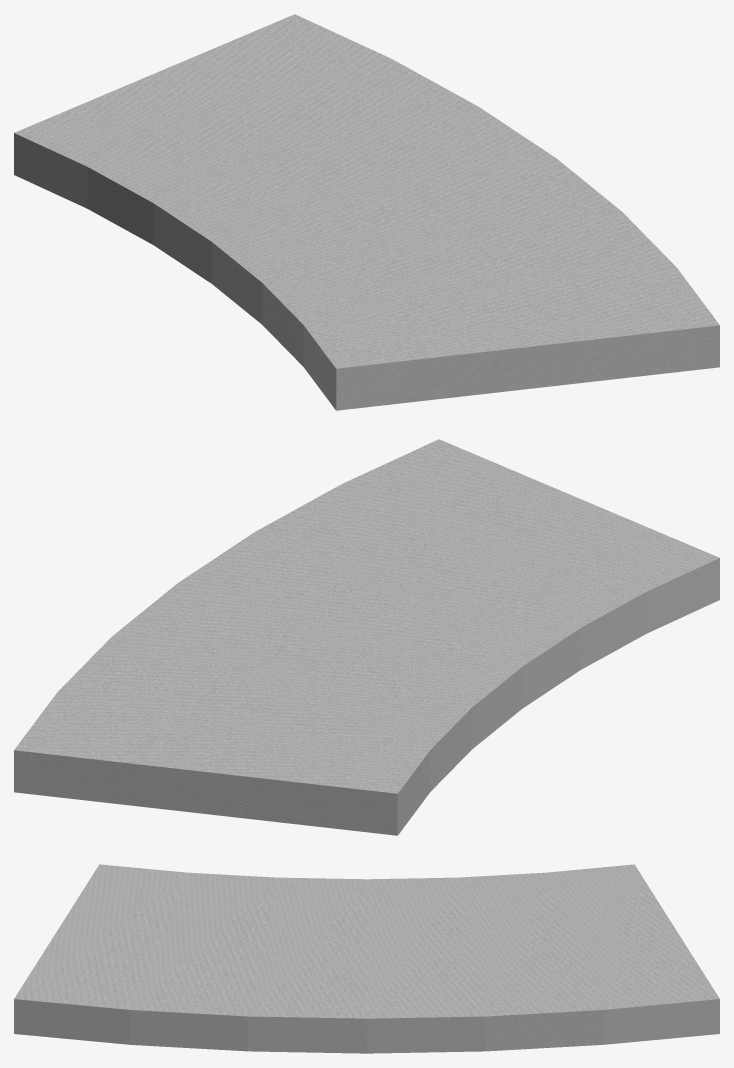
File: velodrome-and-track-cycling-track-apron-bend-module-ebbd5084__37980.glb
The picture shows the model from 3 angles, top to bottom: view 1: azimuth 30°, elevation 25°; view 2: azimuth 150°, elevation 25°; view 3: azimuth 270°, elevation 25°; orthographic projection. The views are drawn at different scales.
Parts seen in each view (by area): view 1: track-apron-bend-module-apron; view 2: track-apron-bend-module-apron; view 3: track-apron-bend-module-apron.
Part boxes in pixels (bbox=[...]): track-apron-bend-module-apron: bbox=[14, 14, 719, 410]; track-apron-bend-module-apron: bbox=[14, 439, 719, 835]; track-apron-bend-module-apron: bbox=[14, 864, 719, 1053].
Size of the model in its own units: 3.32 by 0.3503 by 6.42.
Materials: 1 (1 with a texture image).
